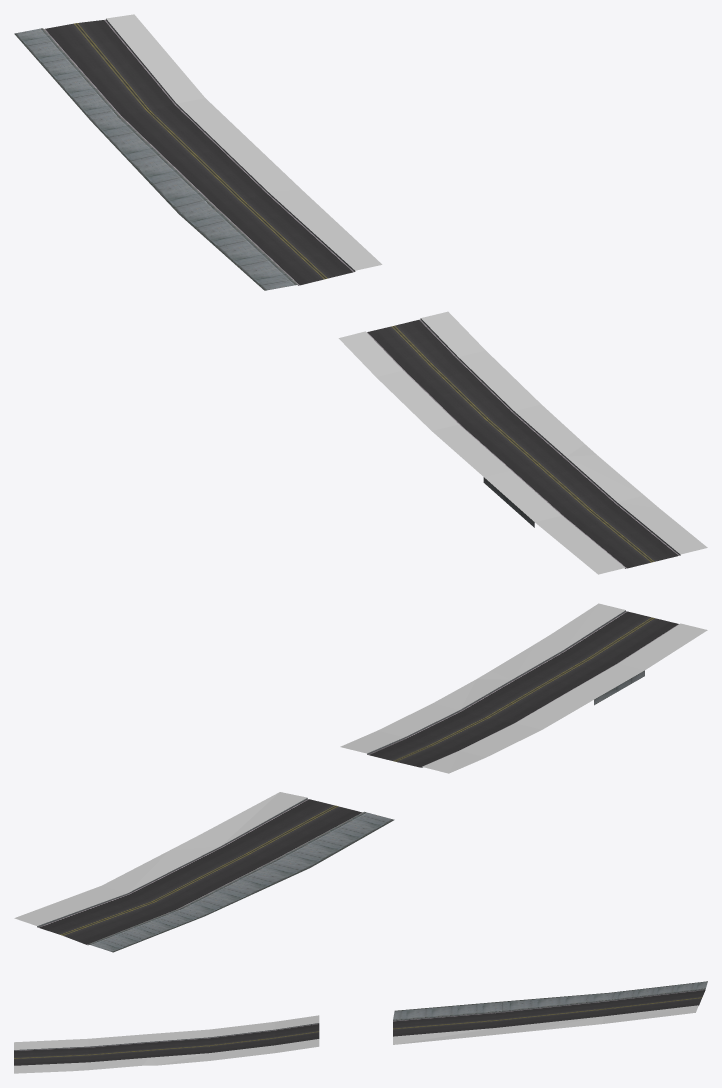
File: road_lawn07.obj
3 renders of one model, top to bottom at view 1: azimuth 30°, elevation 25°; view 2: azimuth 150°, elevation 25°; view 3: azimuth 270°, elevation 25°, orthographic. The views are drawn at different scales.
Visible parts, largest first — view 1: road_lawn07; view 2: road_lawn07; view 3: road_lawn07.
Boxes of the visible parts, x1,y1,x2,y2 form: road_lawn07: (14,14,707,574); road_lawn07: (14,603,707,952); road_lawn07: (14,981,707,1073).
Bounding box in the file's own units: 23.09 × 18.84 × 186.
